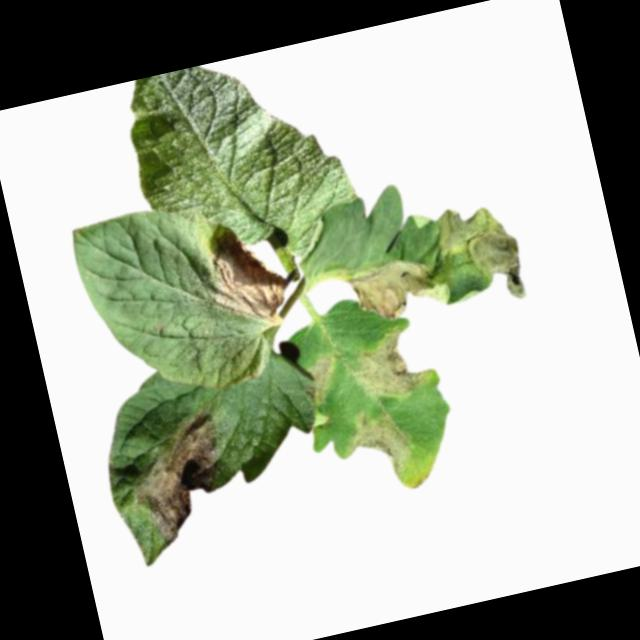Late_blight: (120, 404, 242, 552), (431, 194, 531, 313), (192, 220, 293, 335), (337, 245, 453, 330), (338, 320, 441, 410), (331, 403, 417, 489), (293, 350, 342, 407)
